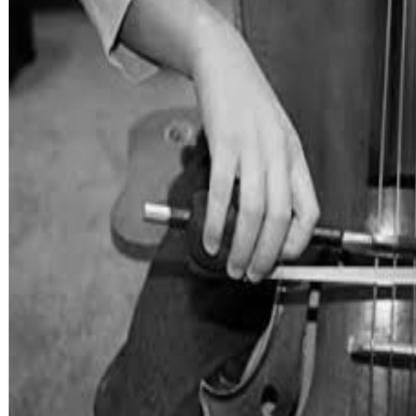good: (192, 92, 324, 288)
